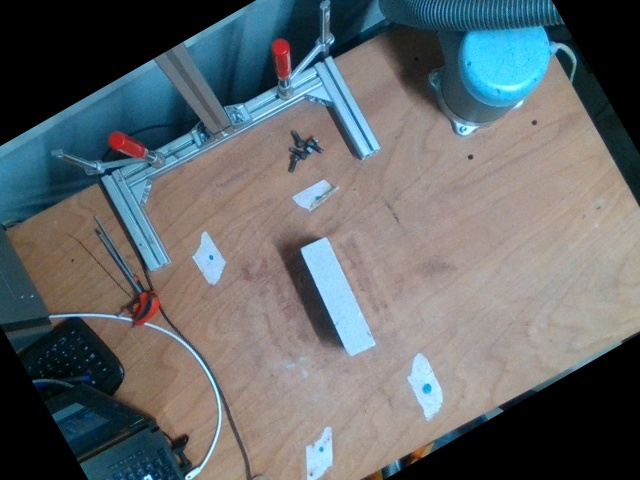brick-side: (298, 237, 375, 357)
